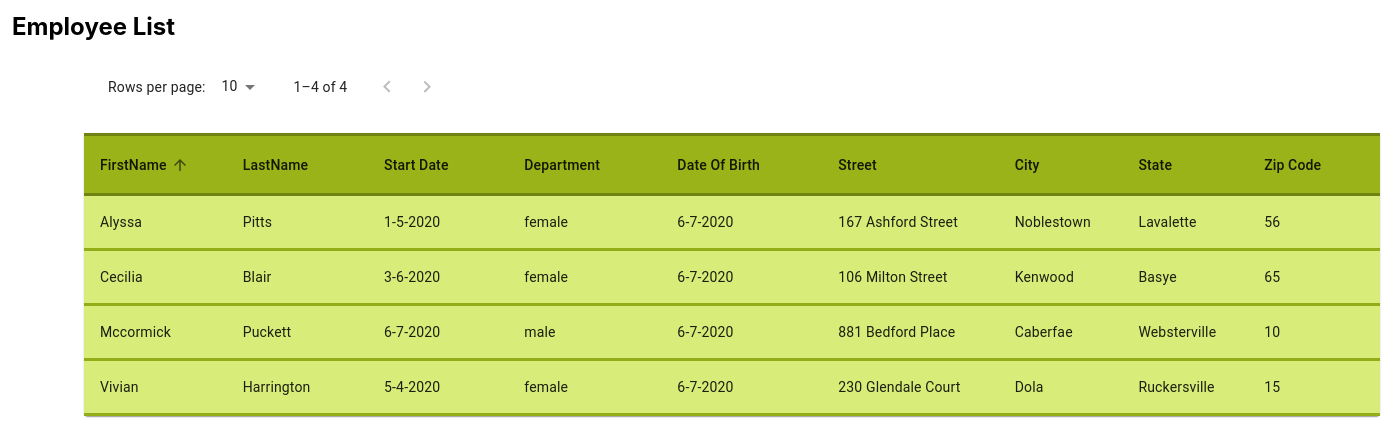
Test: Quand le tableau est affiché › Quand on veut trier de manière croissante › on filtre les villes par ordre croissant
The width and height of the screenshot is (1398, 435).
What coordinates should you click on to do the following:
click the button "City"
I would click on:
 (1027, 165)
Its box is [1015,157,1040,173].
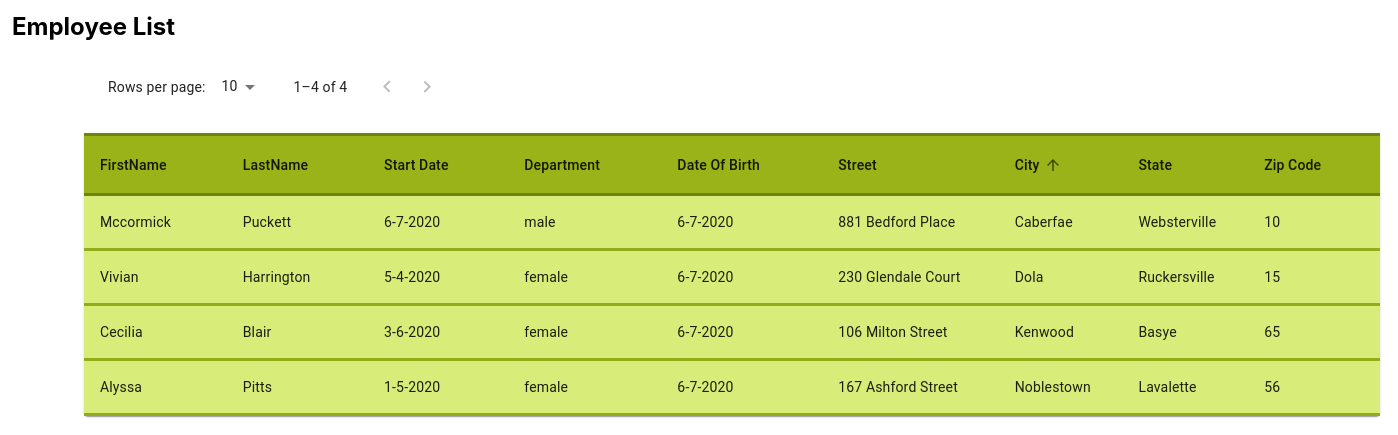
expect the cell with test id "city" reads "Caberfae": met, box [1015,214,1073,230]
